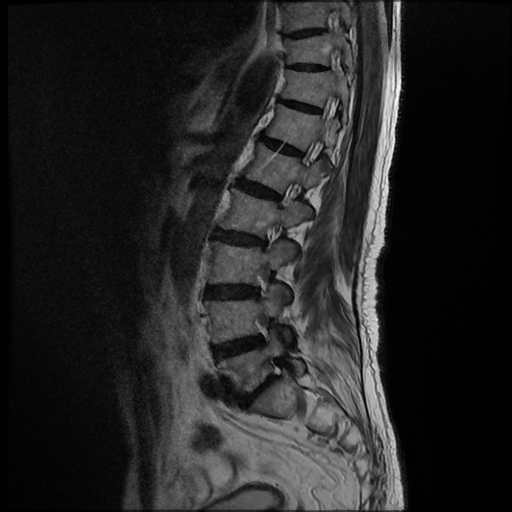LFS0: (267, 177, 309, 215)
LFS1: (241, 260, 282, 303)
LFS2: (250, 351, 291, 394)
